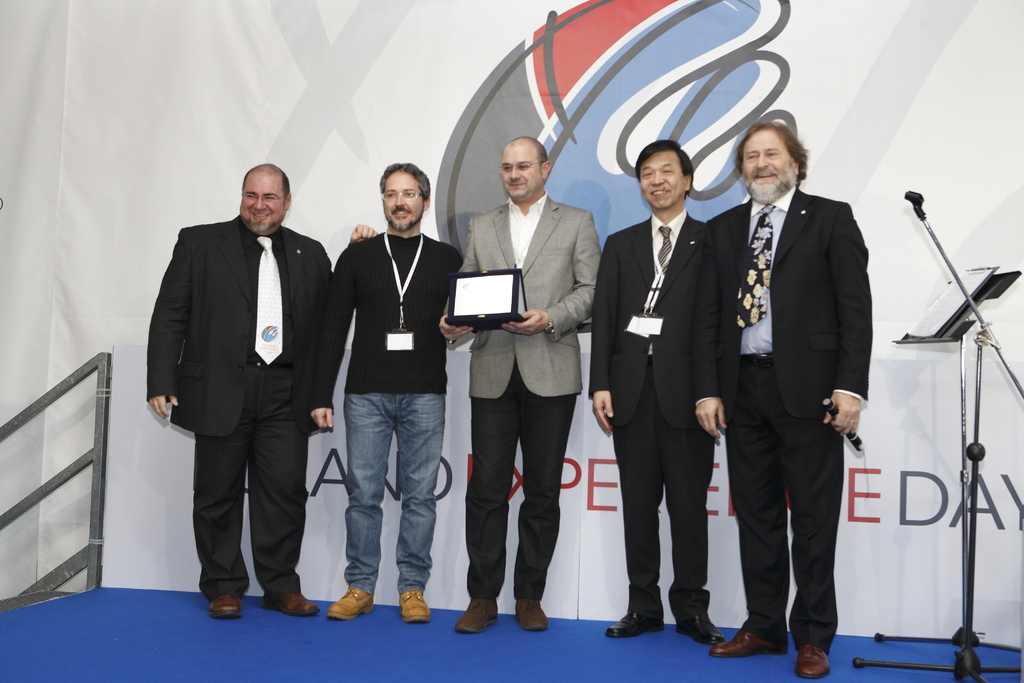Footwear: (713, 628, 789, 659), (676, 607, 728, 647), (603, 607, 668, 637), (263, 588, 321, 620), (325, 587, 375, 623), (794, 639, 834, 680), (456, 595, 494, 633), (394, 589, 434, 625), (516, 595, 550, 633), (204, 593, 245, 623)
